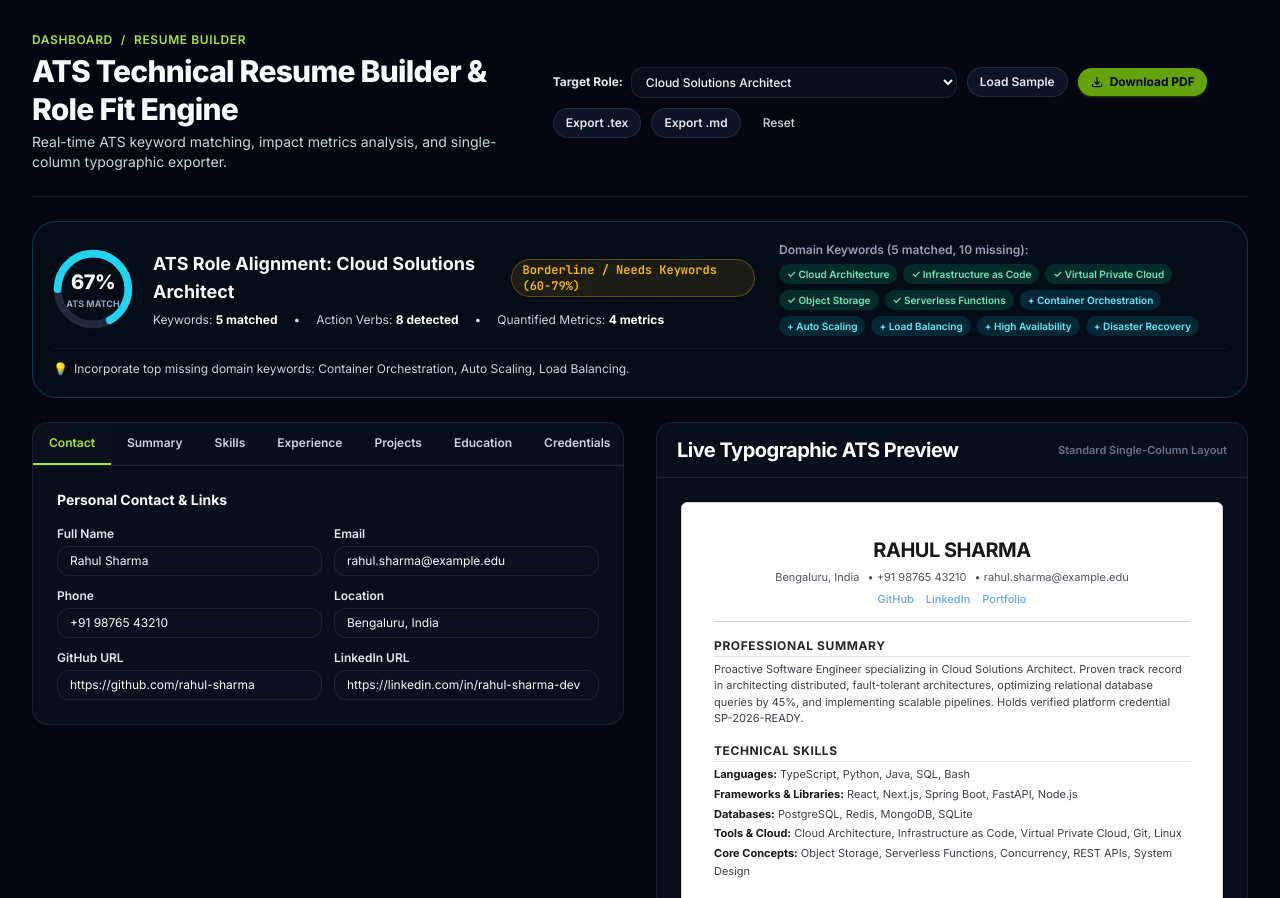
Test: ResumeBuilderPage › switches target role when dropdown selection changes
This screenshot has width=1280, height=898.
Select "DevOps & Site Reliability Engineer" in the dropdown named "Target Role Selection" at (794, 82), box x1=631 y1=66 x2=957 y2=98
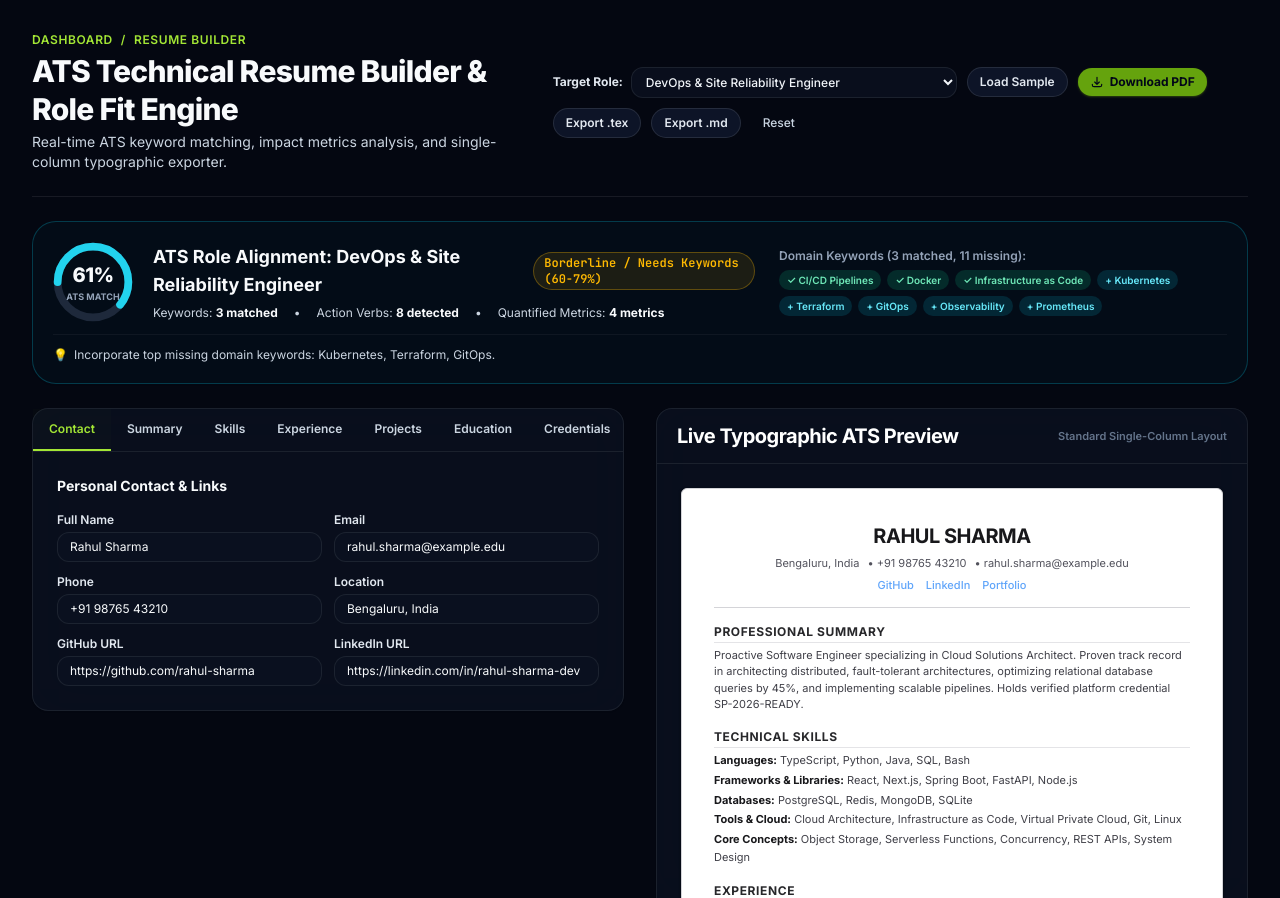
expect the heading "ATS Role Alignment: DevOps & Site Reliability Engineer" is shown: met, box x1=153 y1=246 x2=460 y2=295
